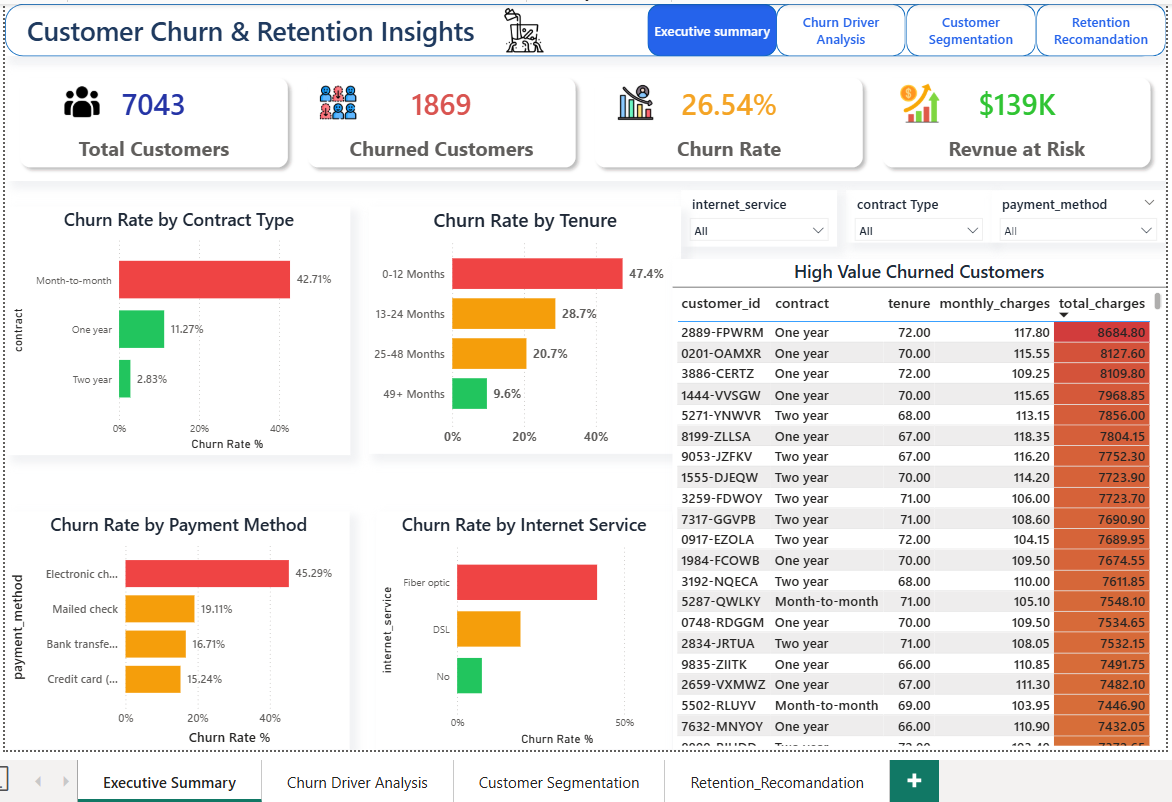

Layout of this report page (visuals, bound fields, positions):
{"tool":"powerbi","page":{"name":"Executive Summary","canvas":[1400,900],"ordinal":0},"visuals":[{"type":"cardVisual","fields":{"Data":["fact_churn.Total Customers","fact_churn.Churned Customers","fact_churn.Churn Rate","Measures Table.Revnue at Risk"]},"box":[3.2,74.2,1396.5,138.9],"z":0},{"type":"slicer","fields":{"Values":["dim_contract.contract"]},"box":[1014.7,224.1,175.2,63.1],"z":1000},{"type":"slicer","fields":{"Values":["dim_service.internet_service"]},"box":[815.8,224.1,187.8,67.9],"z":2000},{"type":"slicer","fields":{"Values":["dim_contract.payment_method"]},"box":[1189.8,224.1,209.9,63.1],"z":3000},{"type":"shape","box":[0,0,1393.4,63.1],"z":4000},{"type":"clusteredBarChart","title":"Churn Rate by Internet Service","fields":{"Category":["dim_service.internet_service"],"Y":["Measures Table.Churn Rate %"]},"box":[448.2,612.3,356.6,287.2],"z":5000},{"type":"clusteredBarChart","title":"Churn Rate by Tenure","fields":{"Y":["fact_churn.Churn Rate"],"Category":["fact_churn.Tenure Group Month"]},"box":[438.7,244.6,377.1,298.2],"z":6000},{"type":"tableEx","title":"High Value Churned Customers","fields":{"Values":["dim_customer.customer_id","dim_contract.contract","fact_churn.tenure","fact_churn.monthly_charges","fact_churn.total_charges"]},"box":[804.8,307.7,594.9,591.8],"z":7000},{"type":"image","box":[1074.6,88.4,56.8,61.5],"z":8000},{"type":"image","box":[356.6,91.5,91.5,53.7],"z":9000},{"type":"image","box":[56.8,91.5,71,52.1],"z":10000},{"type":"image","box":[729,91.5,64.7,53.7],"z":11000},{"type":"image","box":[576,0,99.4,63.1],"z":12000},{"type":"clusteredBarChart","title":"Churn Rate by Contract Type","fields":{"Y":["Measures Table.Churn Rate %"],"Category":["dim_contract.contract"]},"box":[3.2,244.6,413.4,299.8],"z":13000},{"type":"clusteredBarChart","title":"Churn Rate by Payment Method","fields":{"Category":["dim_contract.payment_method"],"Y":["Measures Table.Churn Rate %"]},"box":[3,612,413,287],"z":14000},{"type":"shape","box":[1243.5,0,156.2,63.1],"z":15000},{"type":"shape","box":[1087.3,0,156.2,63.1],"z":16000},{"type":"shape","box":[931,0,156,63.1],"z":17000},{"type":"shape","box":[774.8,0,156.2,63.1],"z":18000}]}

Visuals, with their boxes on the page's 1400x900 design canvas (x1, y1, x2, y2). These are canvas units, not pixel positions in the 1172x802 screenshot, which may show the page scaled, cropped or inside an application window:
cardVisual - fact_churn.Total Customers x fact_churn.Churned Customers: (3, 74, 1400, 213)
slicer - dim_contract.contract: (1015, 224, 1190, 287)
slicer - dim_service.internet_service: (816, 224, 1004, 292)
slicer - dim_contract.payment_method: (1190, 224, 1400, 287)
shape: (0, 0, 1393, 63)
"Churn Rate by Internet Service" clusteredBarChart: (448, 612, 805, 900)
"Churn Rate by Tenure" clusteredBarChart: (439, 245, 816, 543)
"High Value Churned Customers" tableEx: (805, 308, 1400, 900)
image: (1075, 88, 1131, 150)
image: (357, 92, 448, 145)
image: (57, 92, 128, 144)
image: (729, 92, 794, 145)
image: (576, 0, 675, 63)
"Churn Rate by Contract Type" clusteredBarChart: (3, 245, 417, 544)
"Churn Rate by Payment Method" clusteredBarChart: (3, 612, 416, 899)
shape: (1244, 0, 1400, 63)
shape: (1087, 0, 1244, 63)
shape: (931, 0, 1087, 63)
shape: (775, 0, 931, 63)
